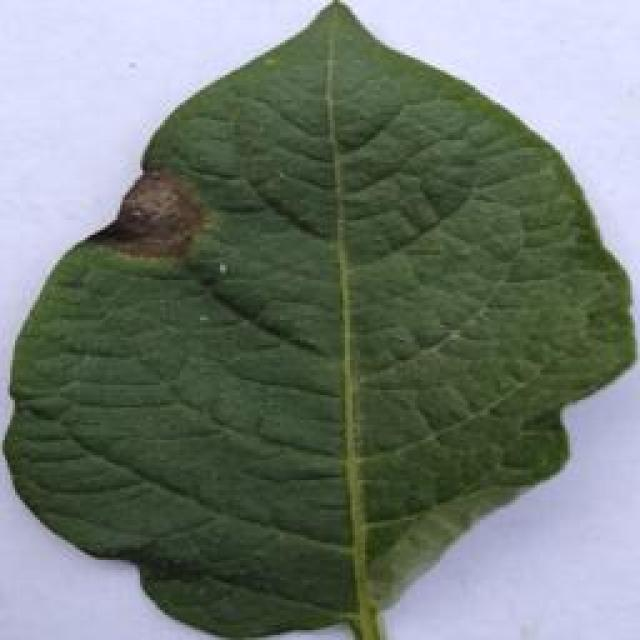Potato_Late_Blight: (0, 3, 630, 625)
